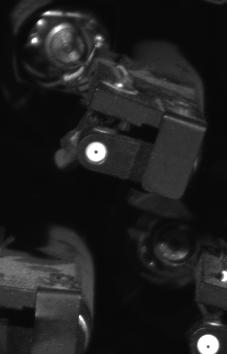fiber: (81, 138, 113, 167), (193, 329, 224, 354)
